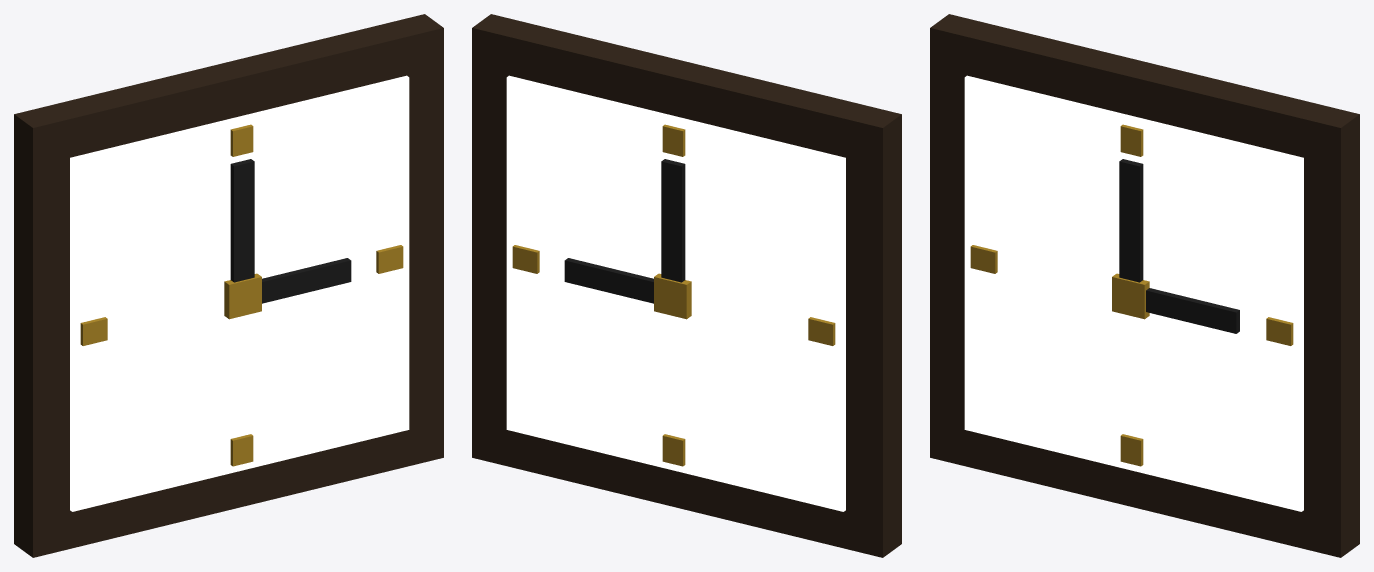
The model's file is ntu-clock-face.glb.
3 renders of one model, left to right at view 1: azimuth 30°, elevation 25°; view 2: azimuth 150°, elevation 25°; view 3: azimuth 330°, elevation 25°, orthographic.
Parts seen in each view (by area): view 1: box-prop; view 2: box-prop; view 3: box-prop.
Part boxes in pixels (box(x1,y1,x2,y2)): box-prop: box(14, 14, 443, 557); box-prop: box(472, 14, 901, 557); box-prop: box(930, 14, 1359, 557).
Bounding box in the file's own units: 2 × 2 × 0.28.
